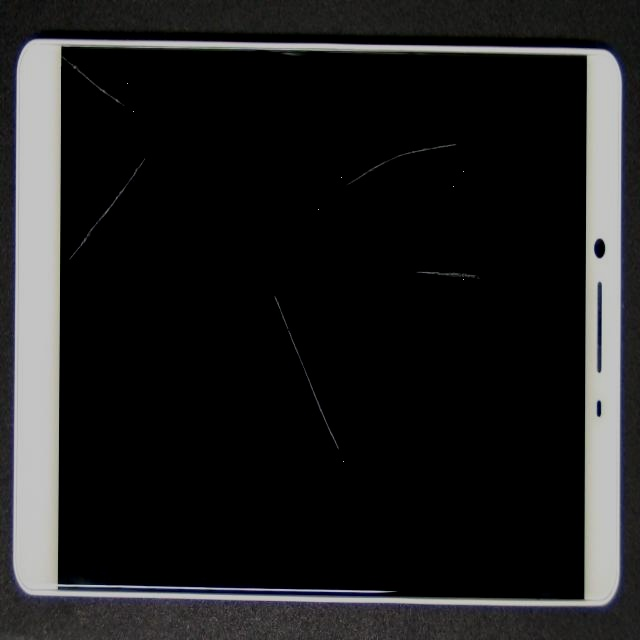scratch: (102, 78, 421, 515), (236, 148, 640, 444), (178, 65, 491, 284), (63, 68, 191, 204)
